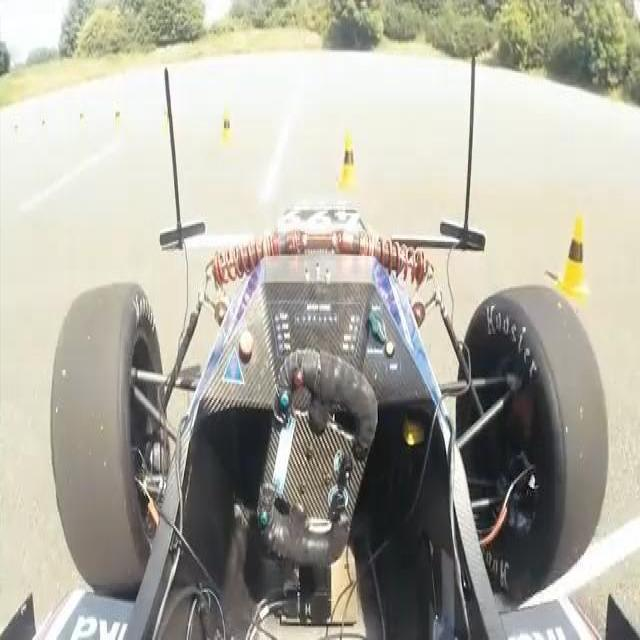yellow_cone: (557, 214, 591, 300), (337, 134, 361, 192)
